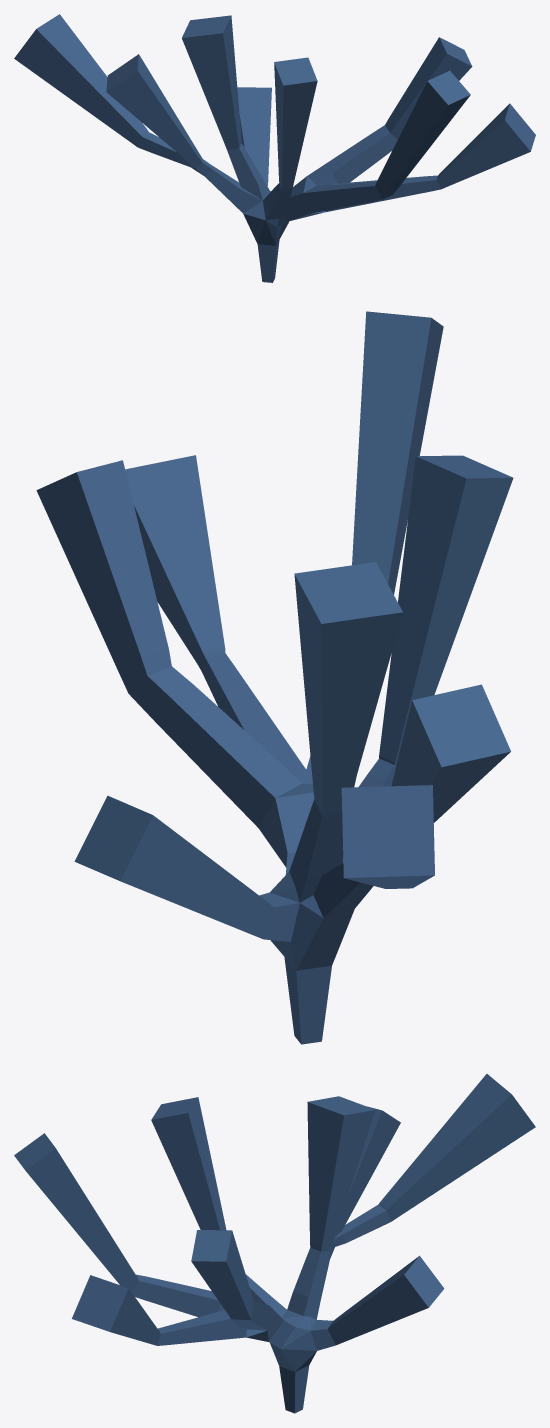
Rendered from Coral2SMALL.glb.
3 views of the same model, one above another, from view 1: azimuth 30°, elevation 25°; view 2: azimuth 150°, elevation 25°; view 3: azimuth 270°, elevation 25° (orthographic). The views are drawn at different scales.
Parts seen in each view (by area): view 1: Plane.004; view 2: Plane.004; view 3: Plane.004.
Boxes of the visible parts, x1,y1,x2,y2 form: Plane.004: (14,14,535,282); Plane.004: (36,311,513,1044); Plane.004: (14,1074,535,1413).
Size of the model in its own units: 0.0831 by 0.0617 by 0.0961.
